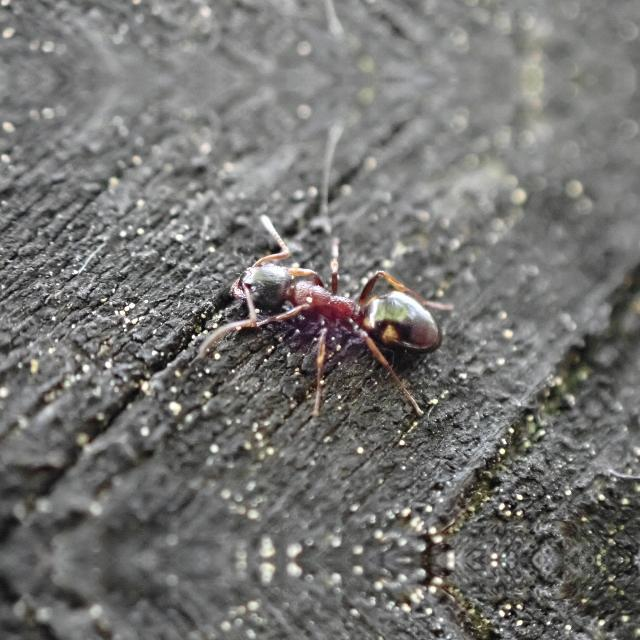Dolichoderus: (202, 221, 478, 385)
